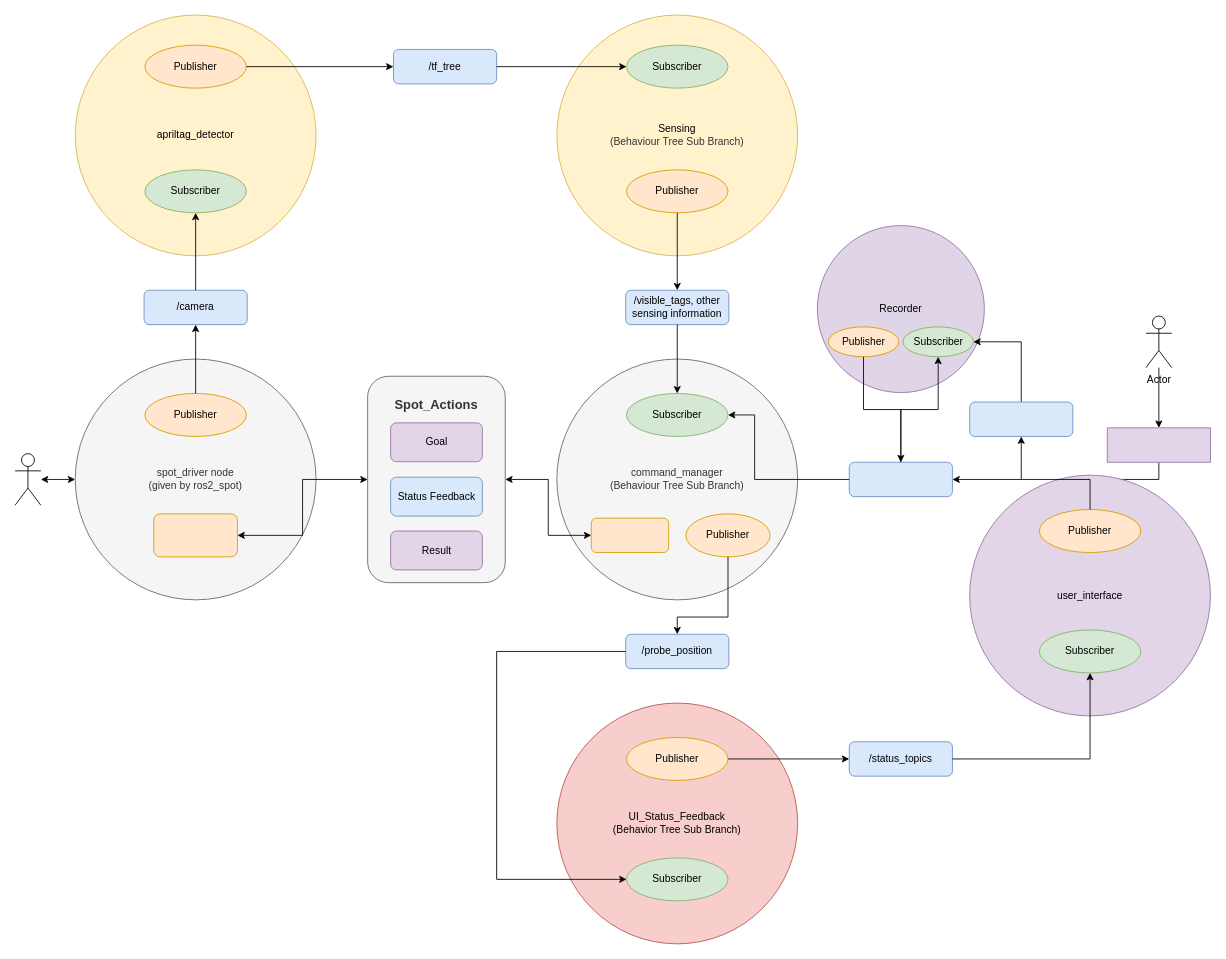
The diagram is 1226 pixels wide and 959 high, and some of its shapes have lost their labels. Each missing label, with the centre of its shape:
/command: point (900, 479)
/record_control: point (1021, 418)
Action Client: point (629, 535)
Action Server: point (195, 535)
Spot: point (27, 479)
User-Interface: point (1158, 444)
